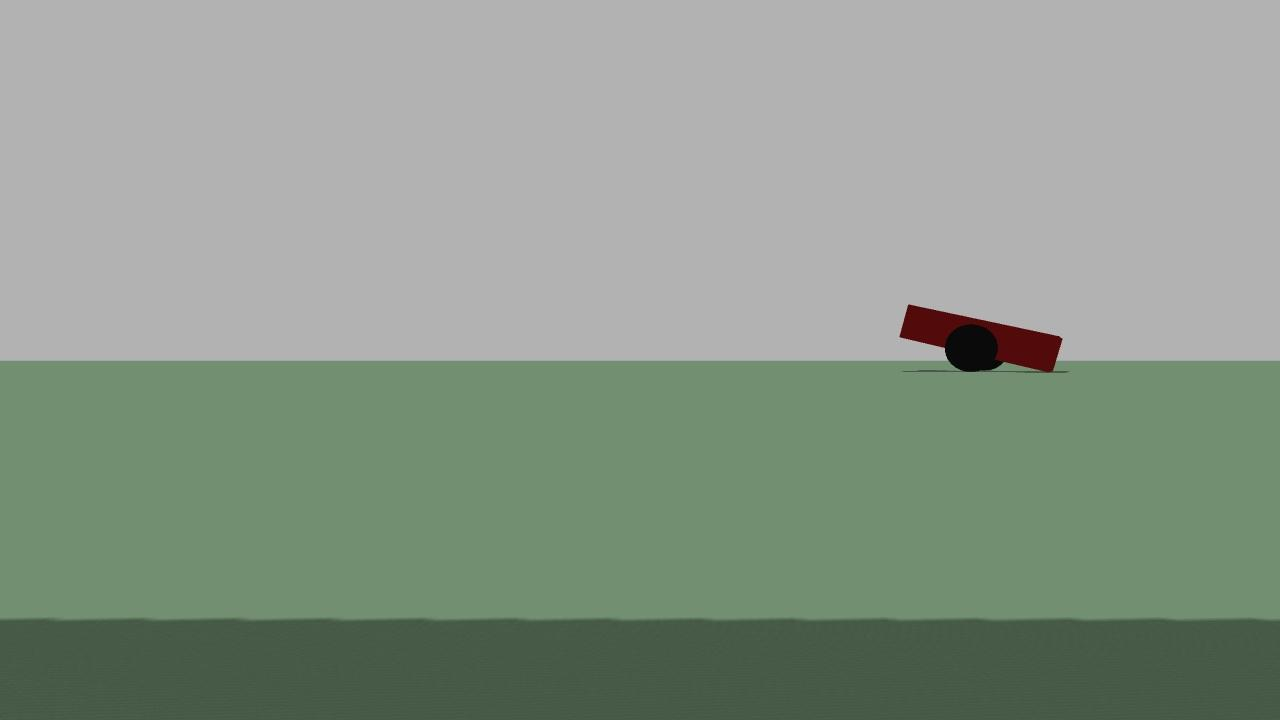ground_vehicle: (897, 286, 1073, 401)
